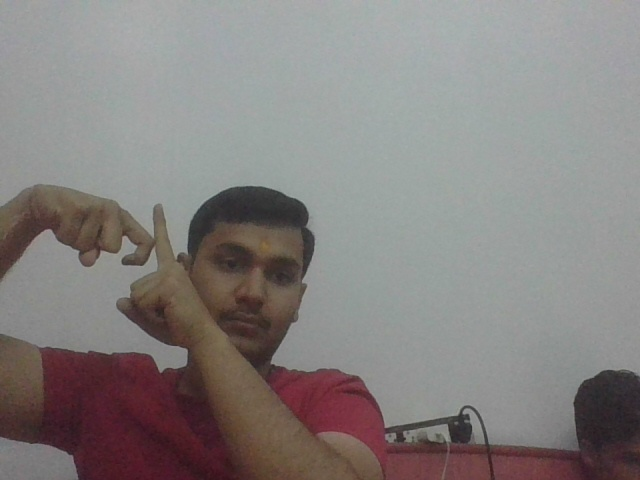K: (101, 192, 183, 278)
